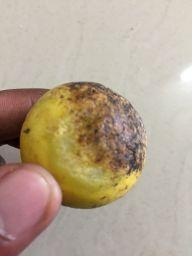lemon: (16, 75, 150, 212)
